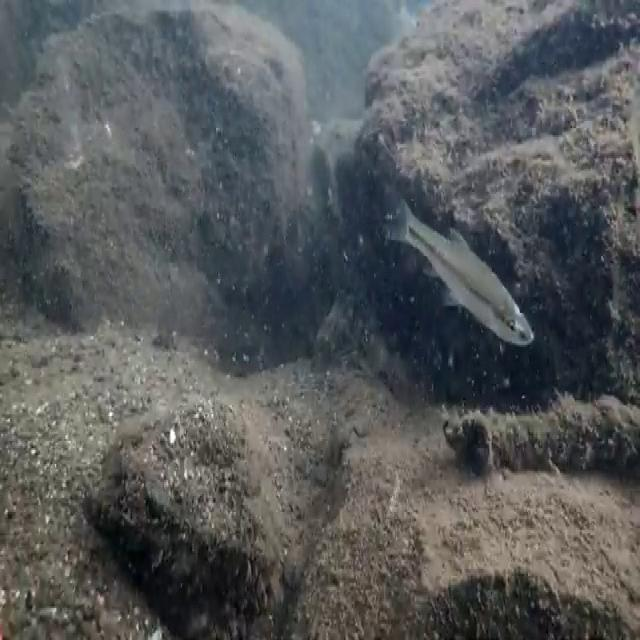Cakil Baligi: (382, 194, 535, 352)
